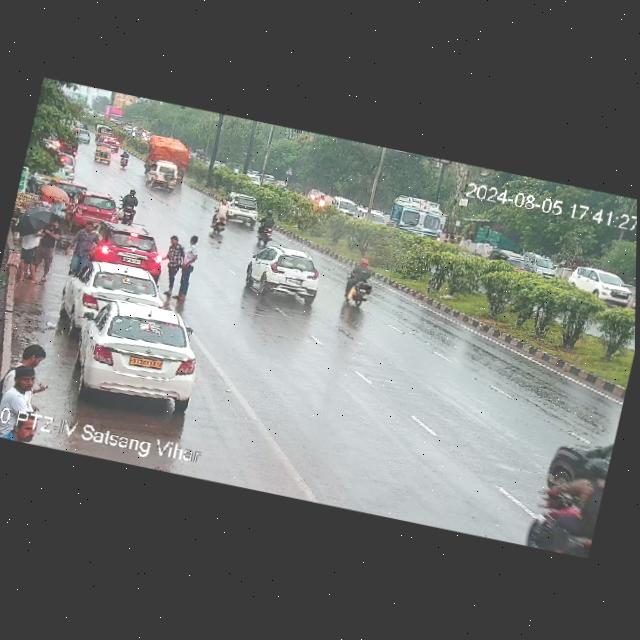car: (56, 288, 212, 414), (63, 255, 170, 329), (242, 241, 328, 306), (87, 221, 169, 276), (564, 261, 636, 308), (66, 191, 124, 229), (216, 191, 266, 226), (142, 158, 187, 195), (517, 248, 562, 281), (487, 242, 528, 273), (93, 124, 128, 150), (53, 148, 79, 182), (89, 143, 118, 166), (353, 205, 386, 225), (330, 196, 359, 218), (74, 127, 92, 144)
motorcycle: (527, 447, 609, 559), (336, 258, 383, 312), (110, 183, 145, 227), (204, 200, 241, 236), (250, 211, 280, 244), (115, 148, 136, 171)
person: (0, 339, 64, 417), (8, 205, 66, 289), (158, 228, 206, 303), (0, 365, 51, 419), (42, 179, 71, 210)
truck: (387, 191, 449, 243), (141, 134, 190, 181), (101, 103, 124, 127)
